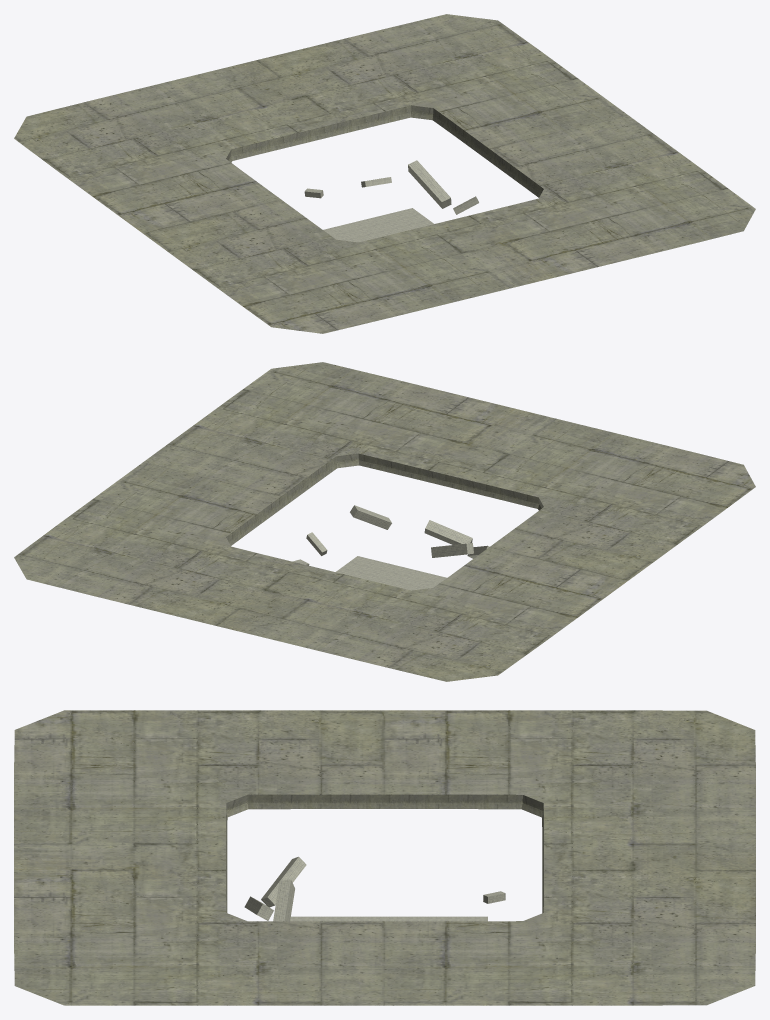
The model's file is SM_LDFest_15_Blockout01.fbx.
The picture shows the model from 3 angles, top to bottom: view 1: azimuth 30°, elevation 25°; view 2: azimuth 150°, elevation 25°; view 3: azimuth 270°, elevation 25°; orthographic projection. The views are drawn at different scales.
Parts seen in each view (by area): view 1: SM_LDFest_15_Blockout01; view 2: SM_LDFest_15_Blockout01; view 3: SM_LDFest_15_Blockout01.
Boxes of the visible parts, x1=… form: SM_LDFest_15_Blockout01: x1=14, y1=14, x2=755, y2=333; SM_LDFest_15_Blockout01: x1=14, y1=362, x2=755, y2=681; SM_LDFest_15_Blockout01: x1=14, y1=710, x2=755, y2=1005.
Bounding box in the file's own units: 14317 × 2284 × 15195.
